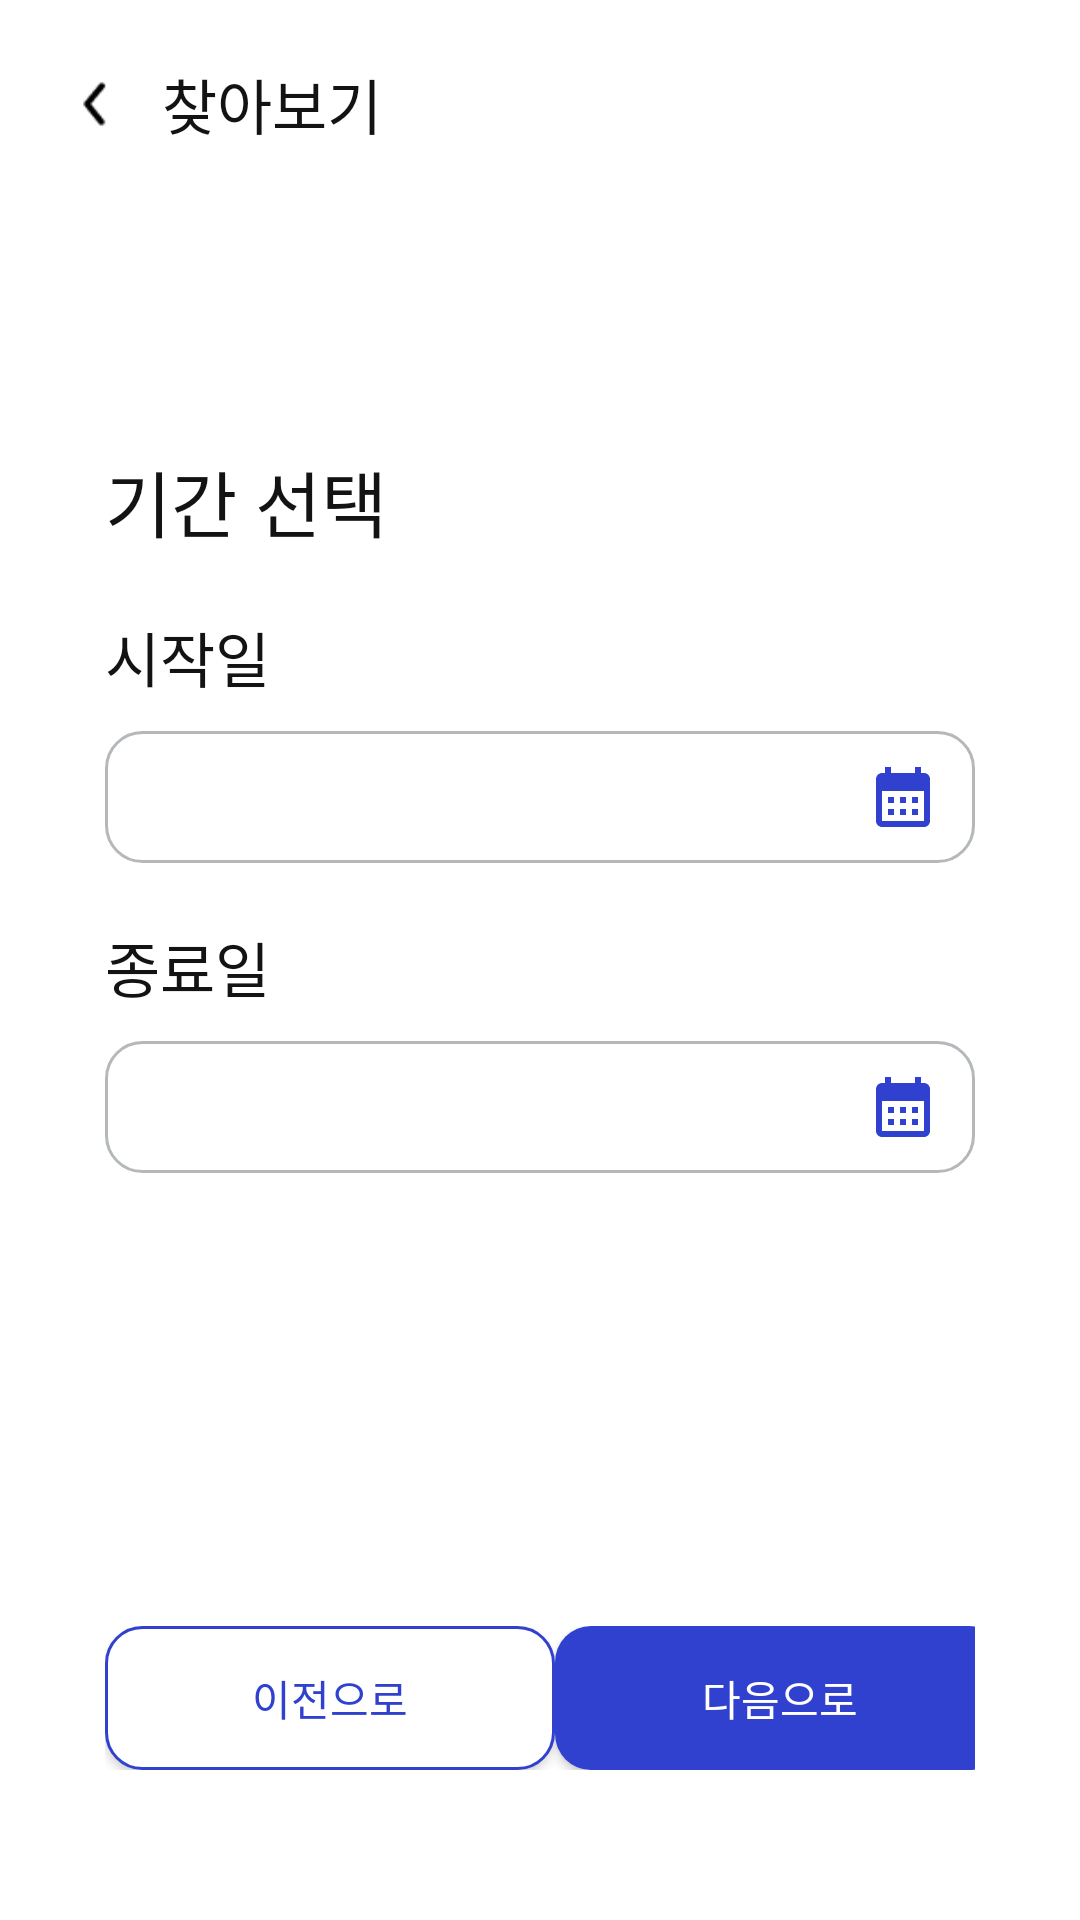

Locate icon controls on the screen. Image size 1080×1920, boxes as (x1,y1,x2,y2).
arrow: (83,82,106,126)
calender: (876,767,930,827), (876,1077,930,1137)
